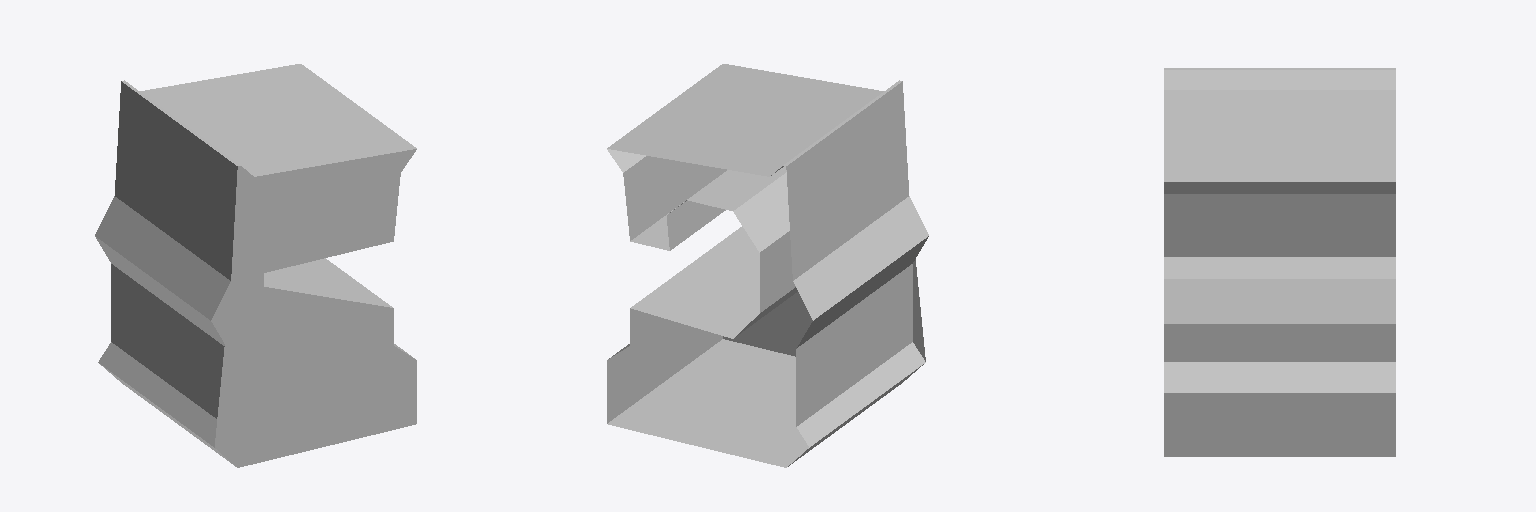
The model's file is building-1.obj.
The picture shows the model from 3 angles: view 1: azimuth 30°, elevation 25°; view 2: azimuth 150°, elevation 25°; view 3: azimuth 270°, elevation 25°; orthographic projection.
Bounding box in the file's own units: 18.62 × 26 × 18.2.